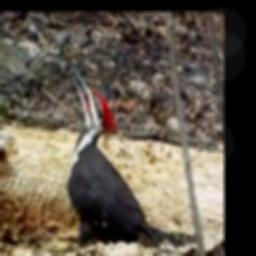Woodpecker: (66, 71, 185, 248)
